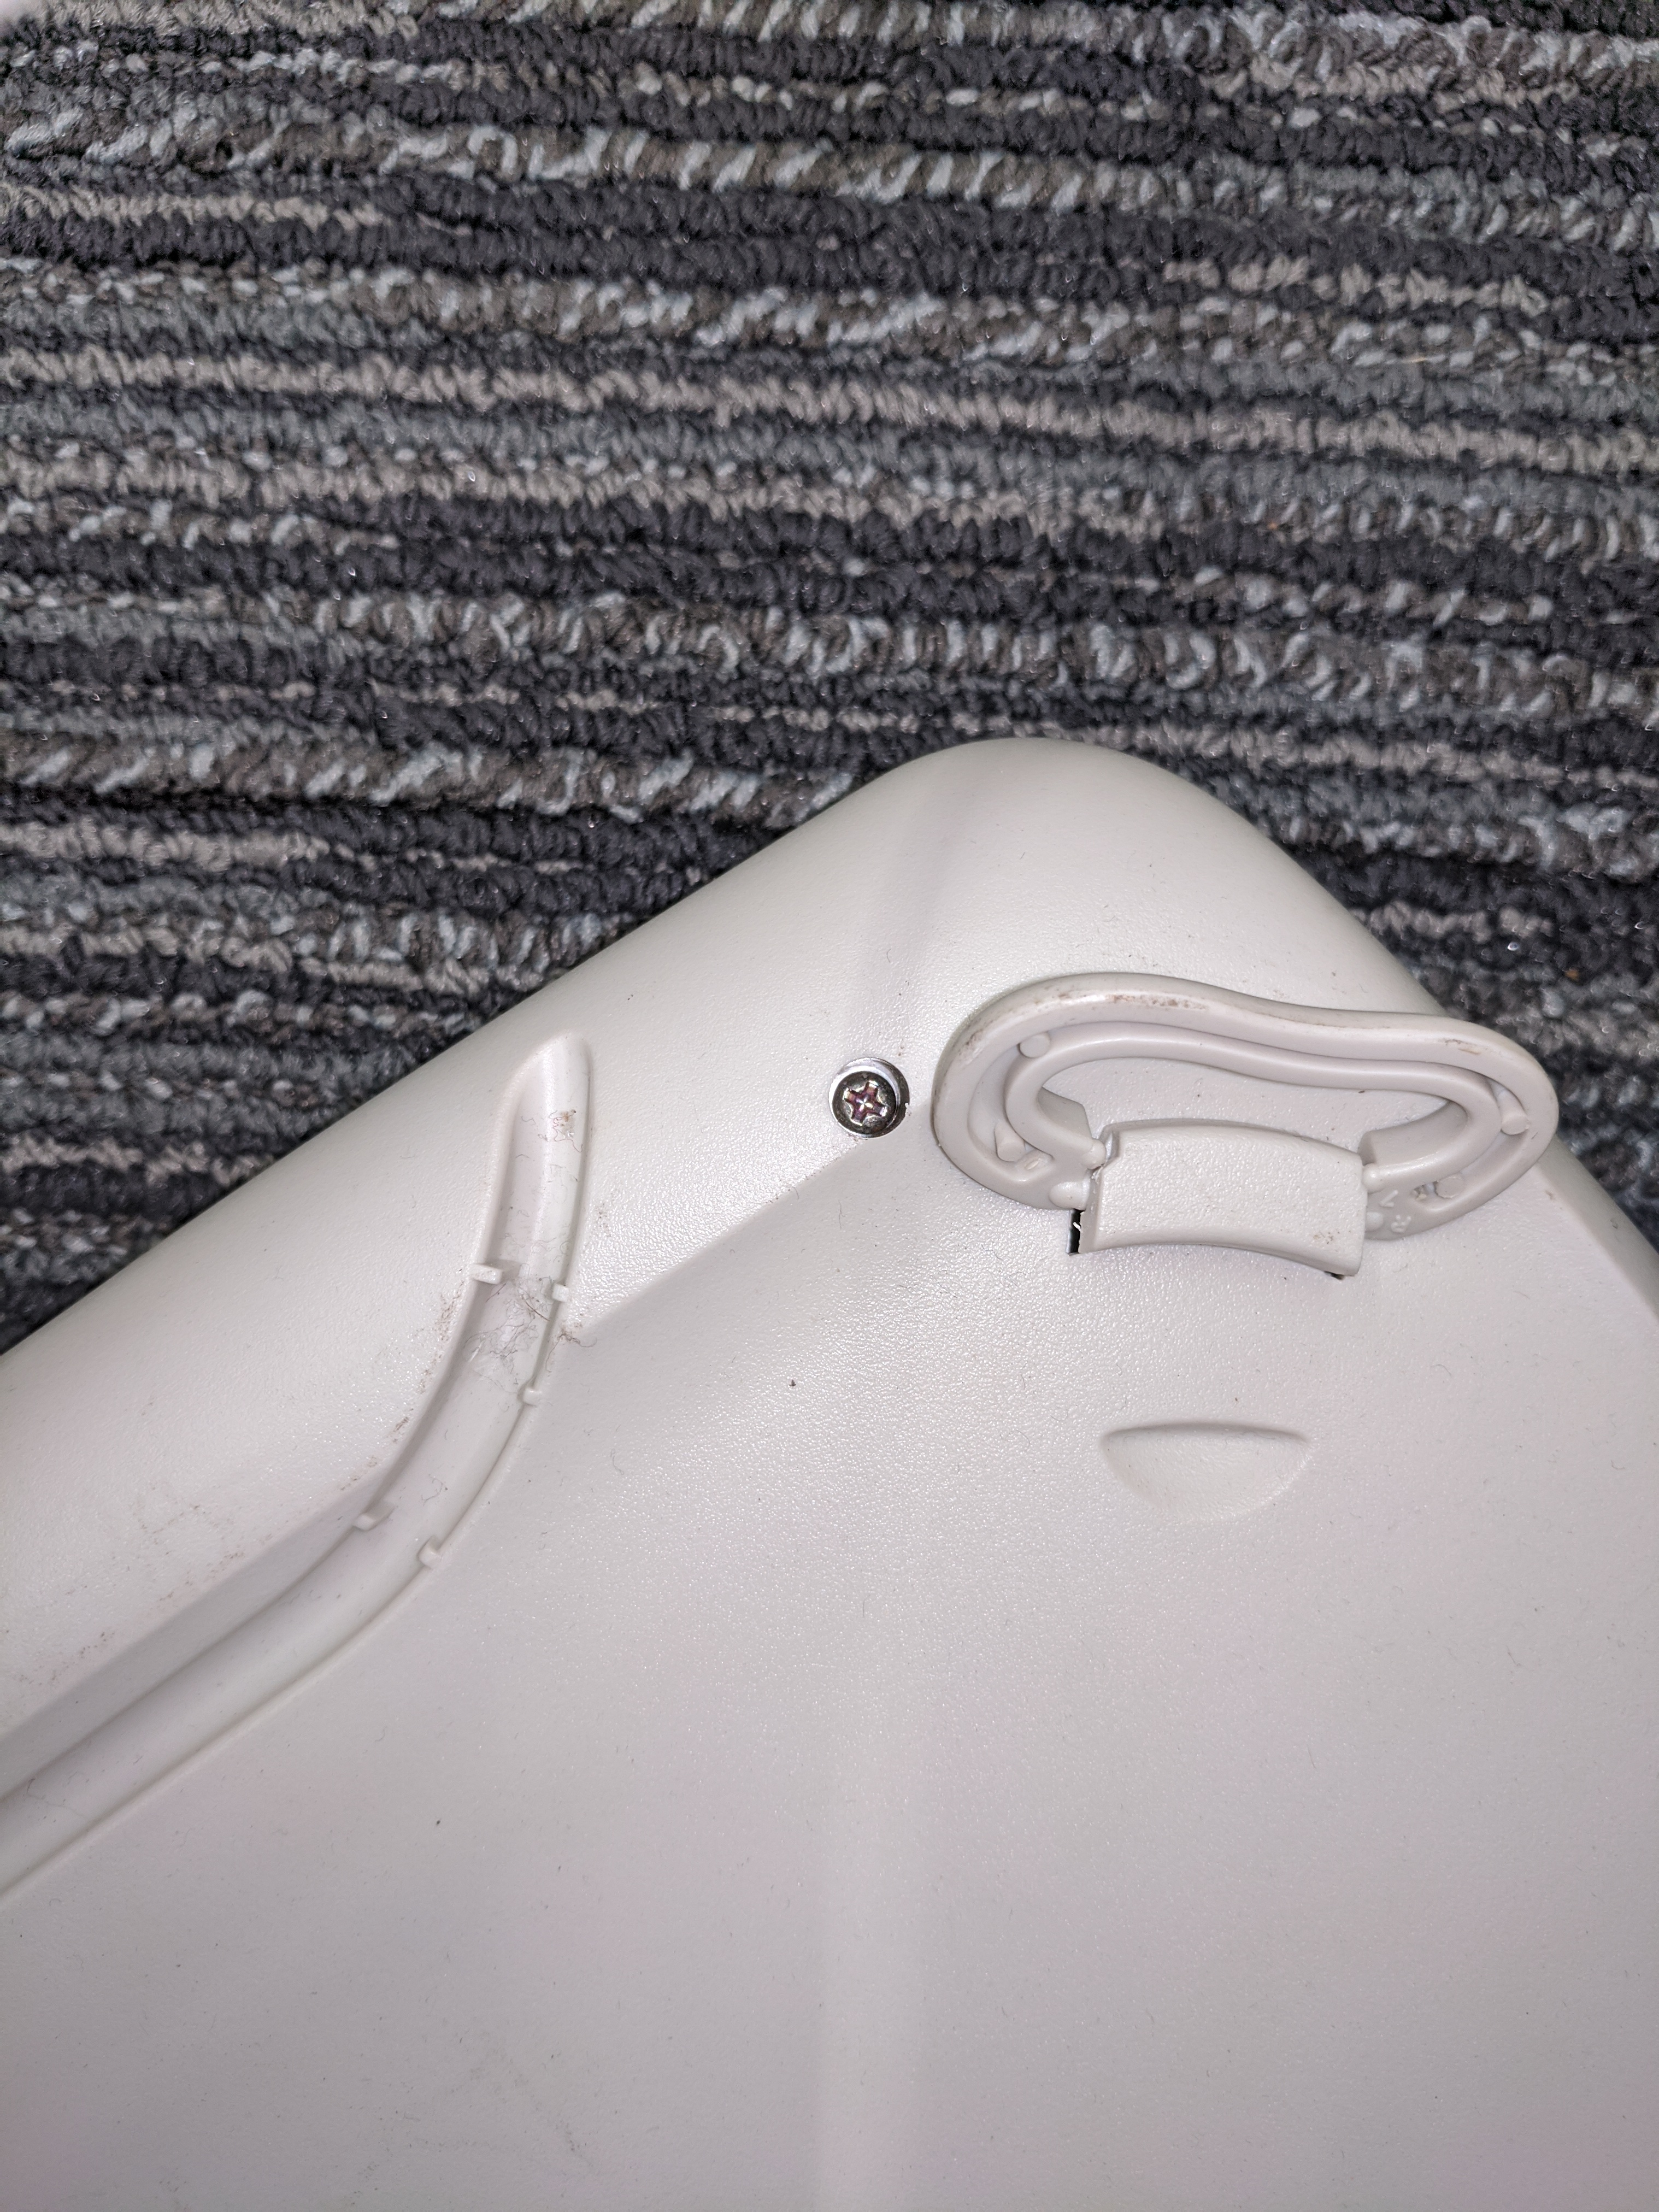cross_recessed_screw: (829, 1071, 913, 1153)
